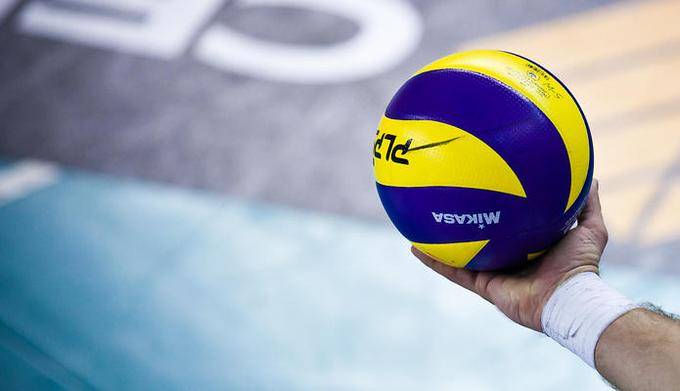ball: (373, 49, 595, 270)
